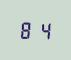eight: (19, 19, 34, 39)
four: (35, 20, 50, 40)
